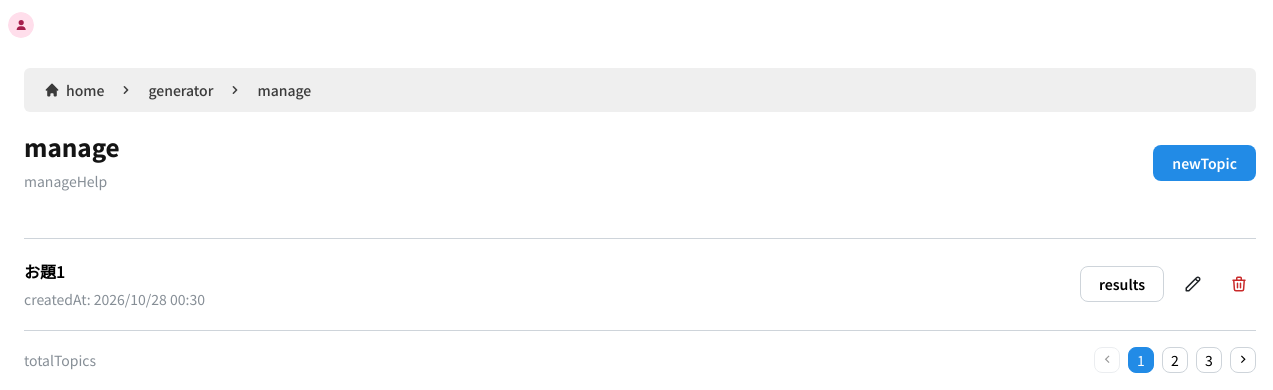
Test: 作成したお題・集計の専用ページ › 複数ページのお題を前後に移動できる（全件表示=false）
Expected: the heading "お題1" is shown, [24,259,65,283]
Click the button named "pagination.next" at (1243, 360), box [1230,347,1256,373]
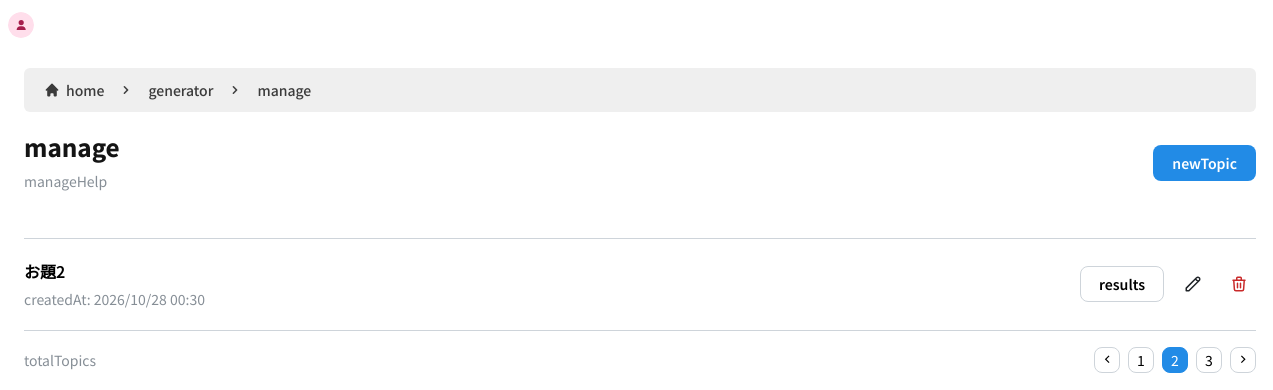
Result: the heading "お題2" is shown at [24,259,65,283]
Click the button named "pagination.next" at (1243, 360), box [1230,347,1256,373]
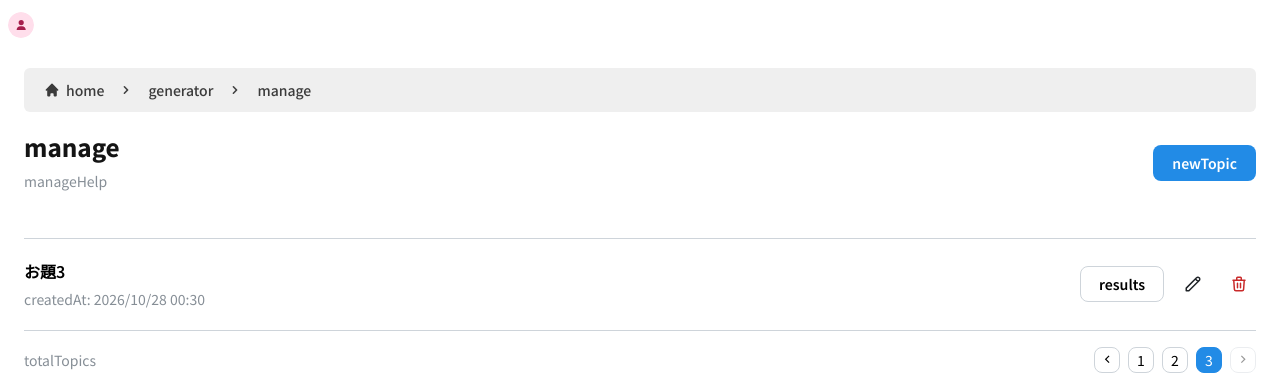
Result: the heading "お題3" is shown at [24,259,65,283]
Result: the button named "pagination.next" is disabled at [1230,347,1256,373]
Click the button named "pagination.previous" at (1107, 360), box [1094,347,1120,373]
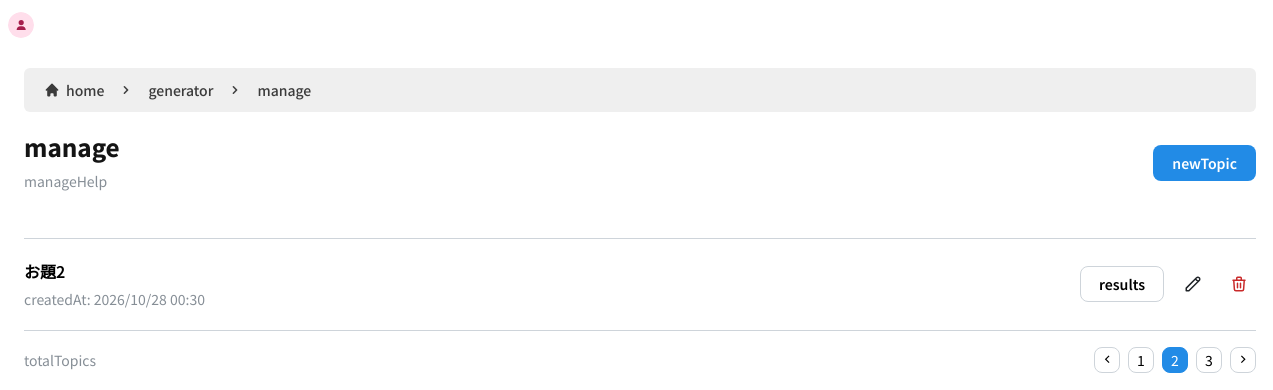
Result: the heading "お題2" is shown at [24,259,65,283]
